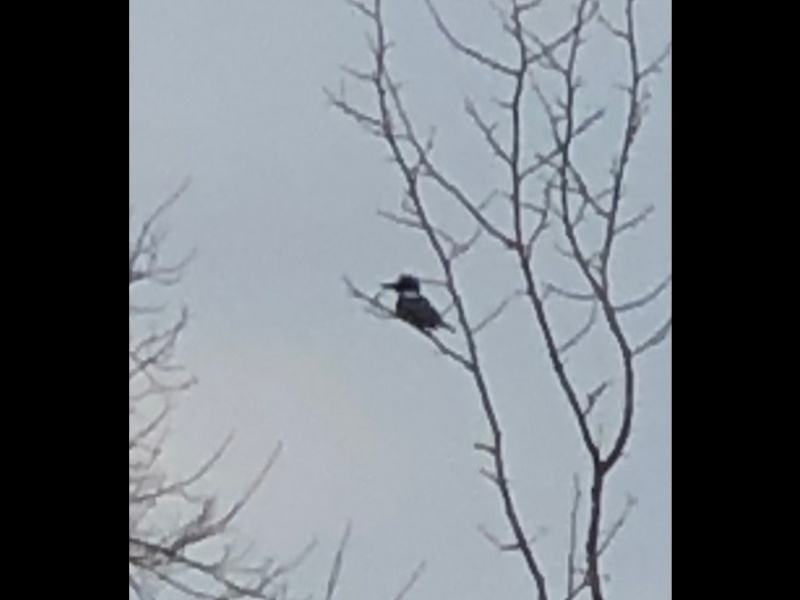kingfisher: (380, 272, 456, 339)
